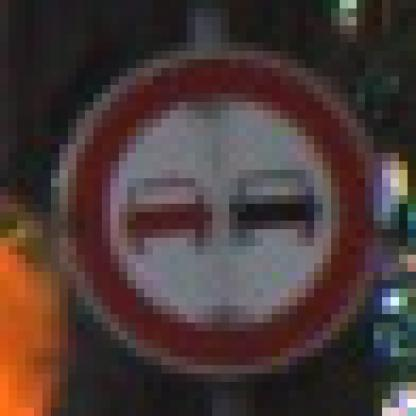No Overtaking: (52, 44, 374, 375)
